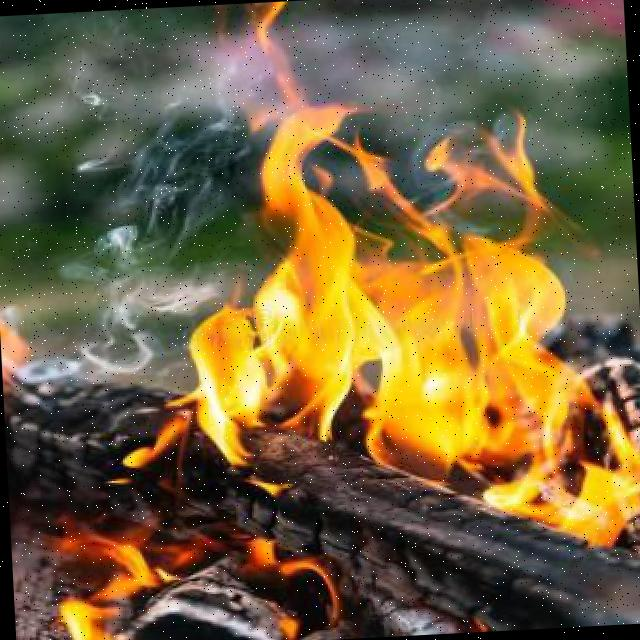fire: (24, 0, 640, 640)
